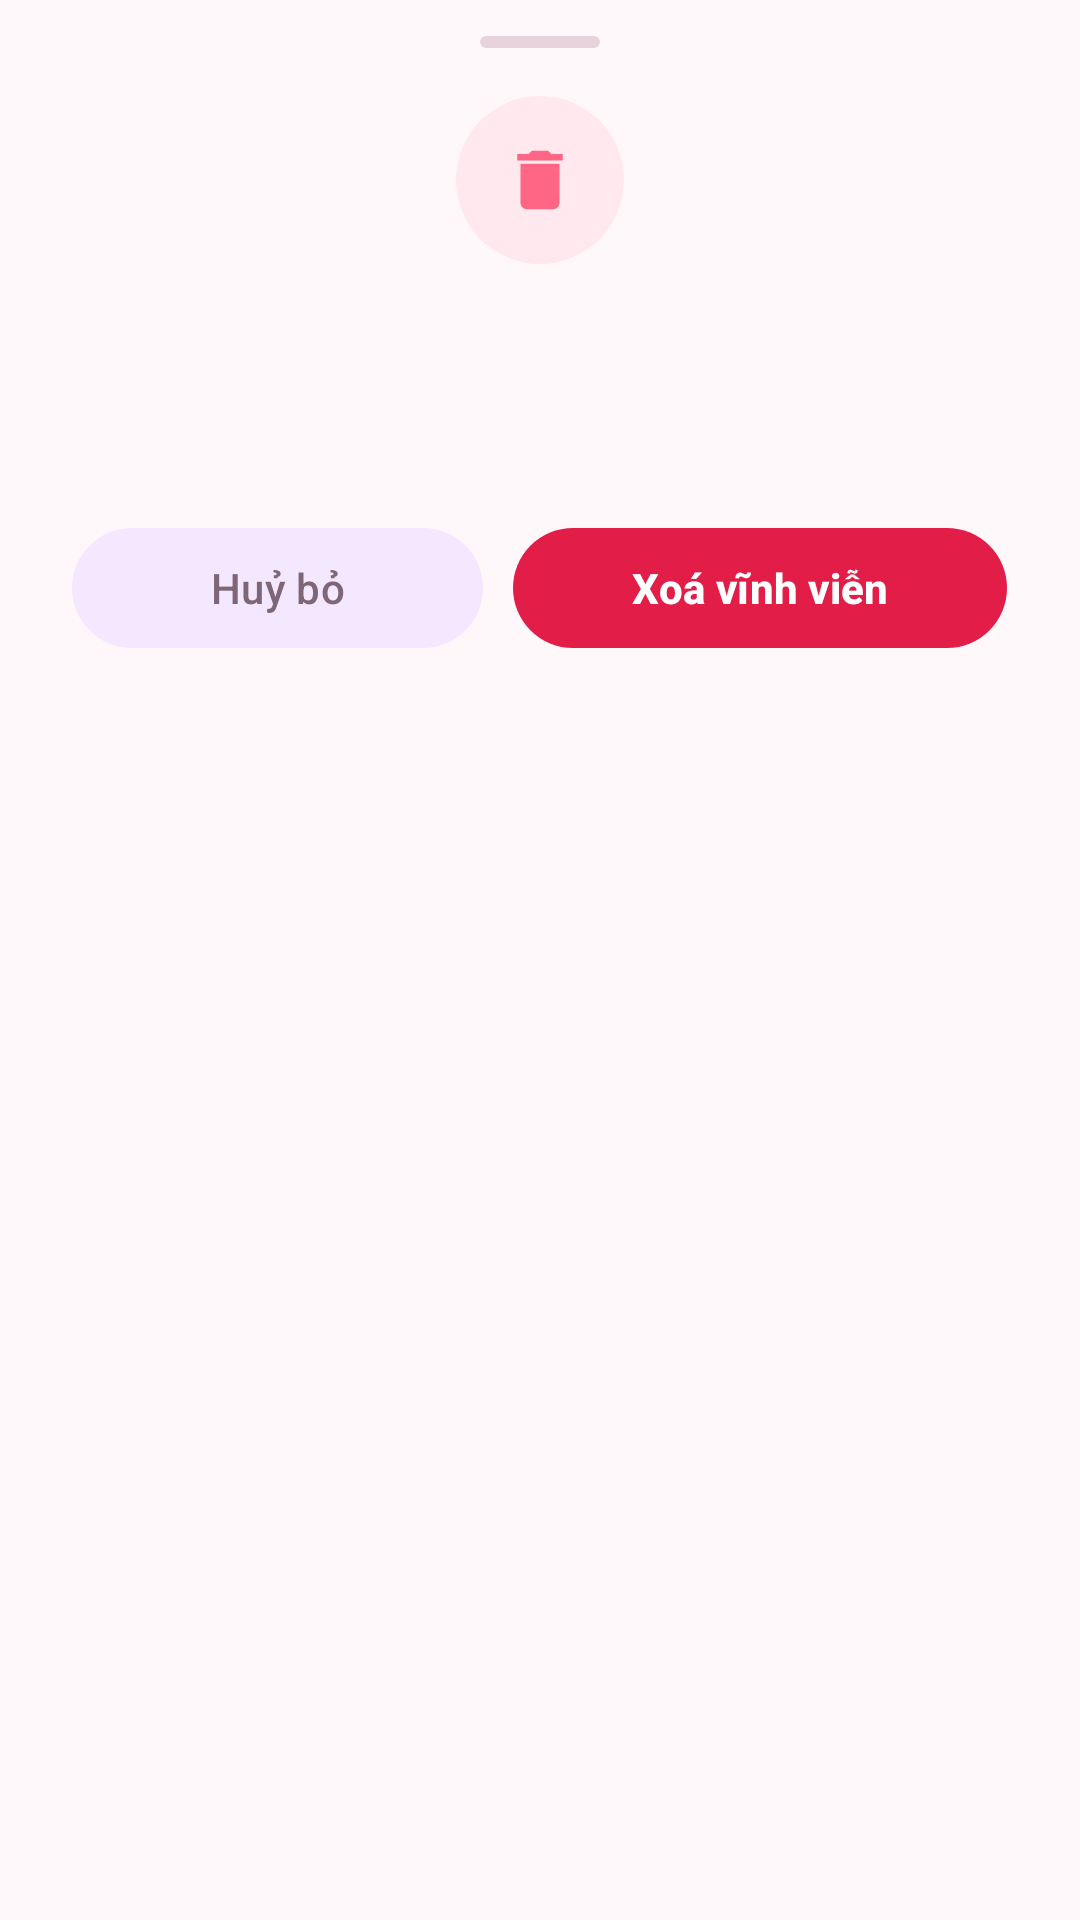

Icon click points for this 1080*1920 phone screenshot, format (x=x, y=y):
delete: (x=540, y=180)
